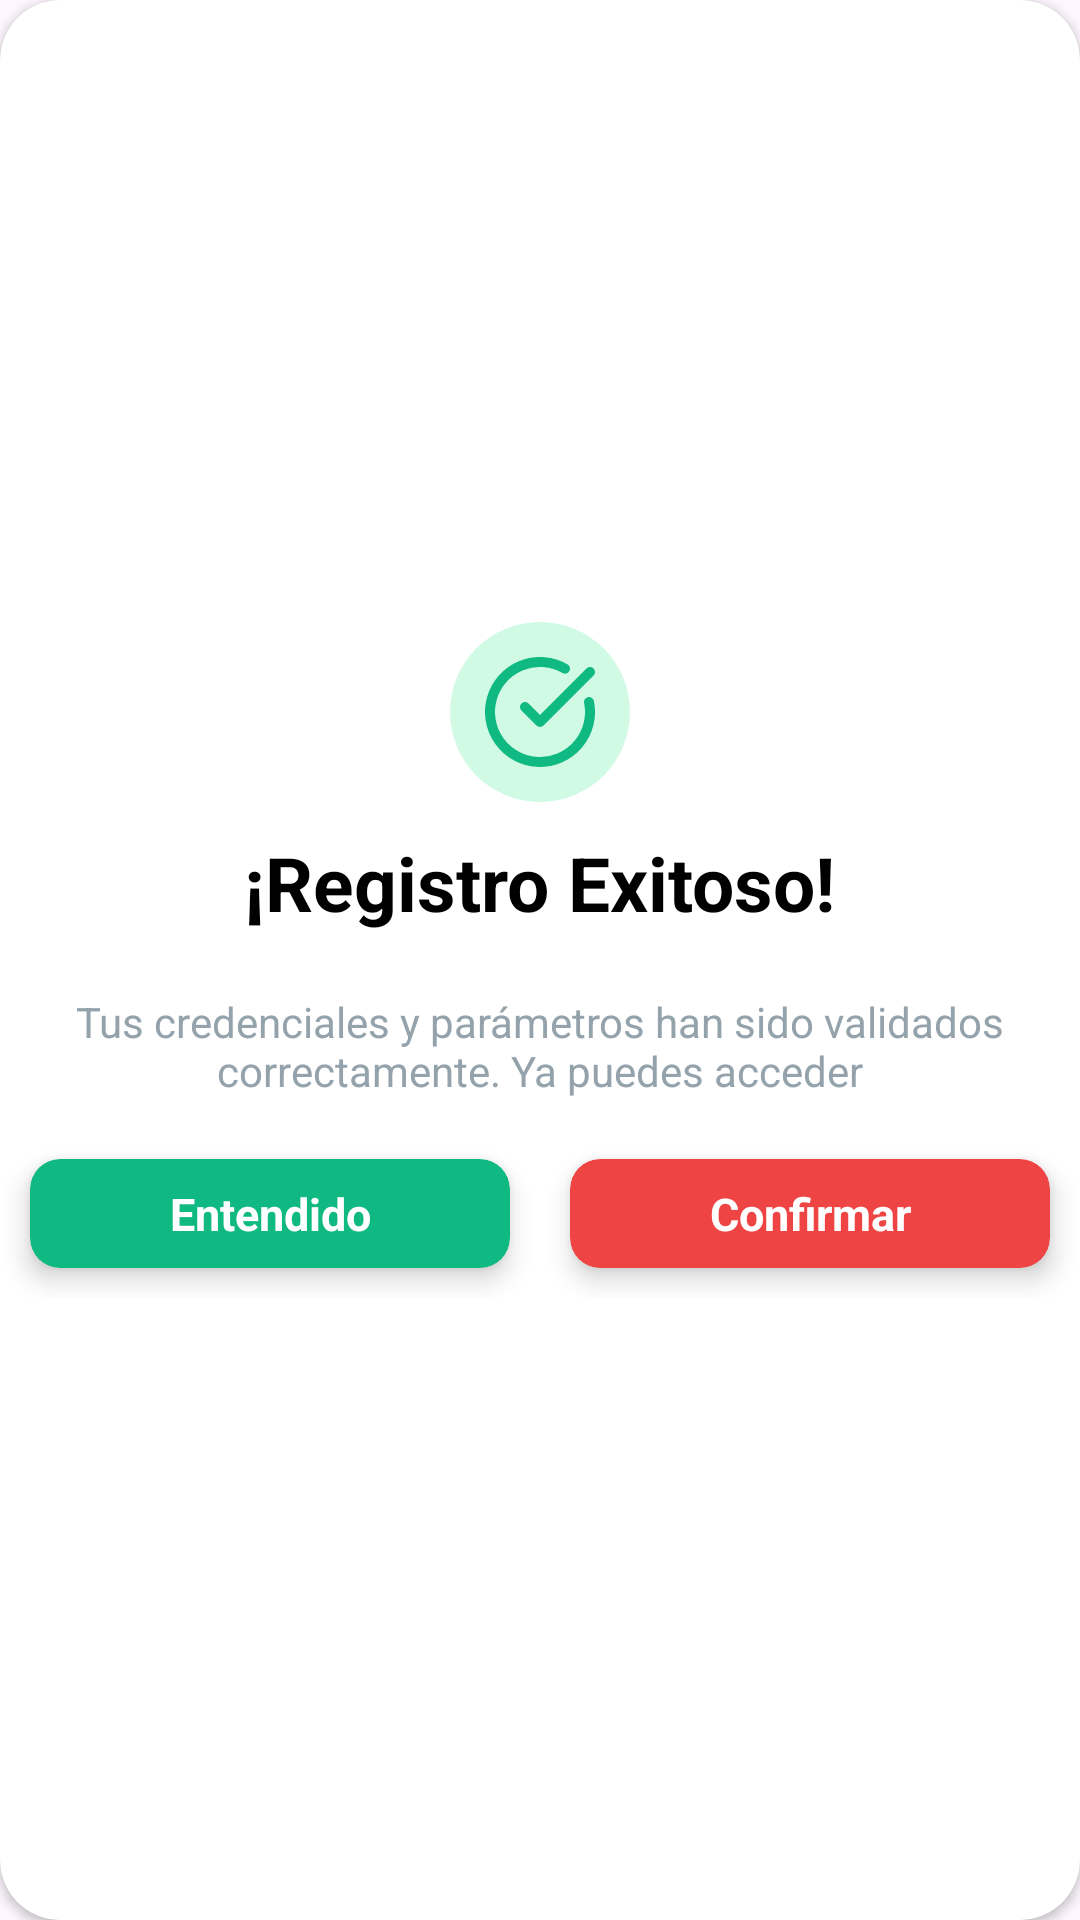

Screen size 1080×1920. Icon name, then its box in pixels as (x1, y1, x2, y2):
check verde: (485, 657, 595, 767)
